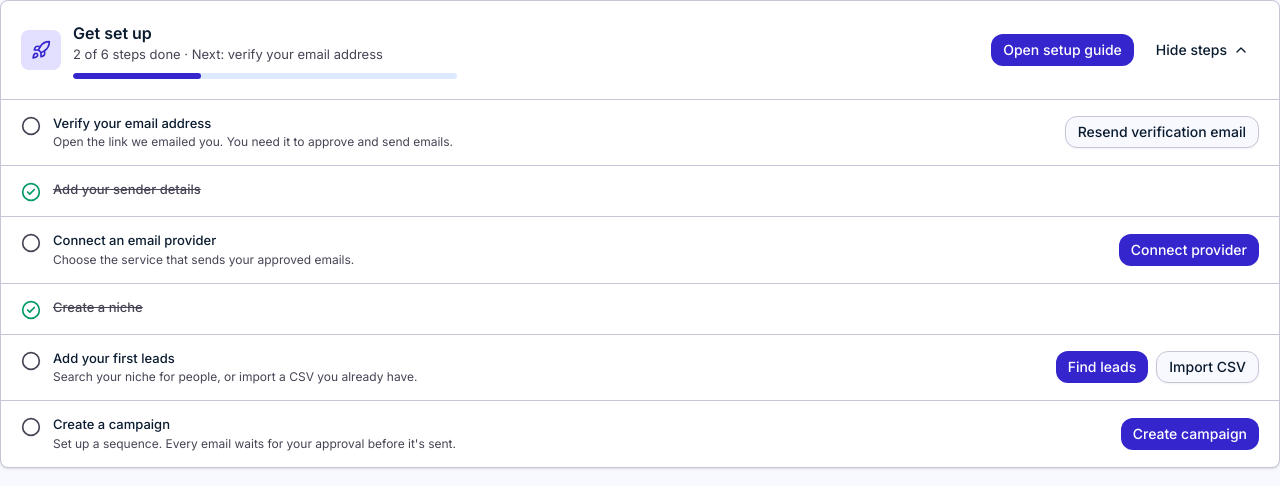
Test case: OnboardingChecklist › resends the verification email
The width and height of the screenshot is (1280, 486).
Click the button "Resend verification email" at coordinates (1162, 132), box x1=1065 y1=116 x2=1259 y2=148
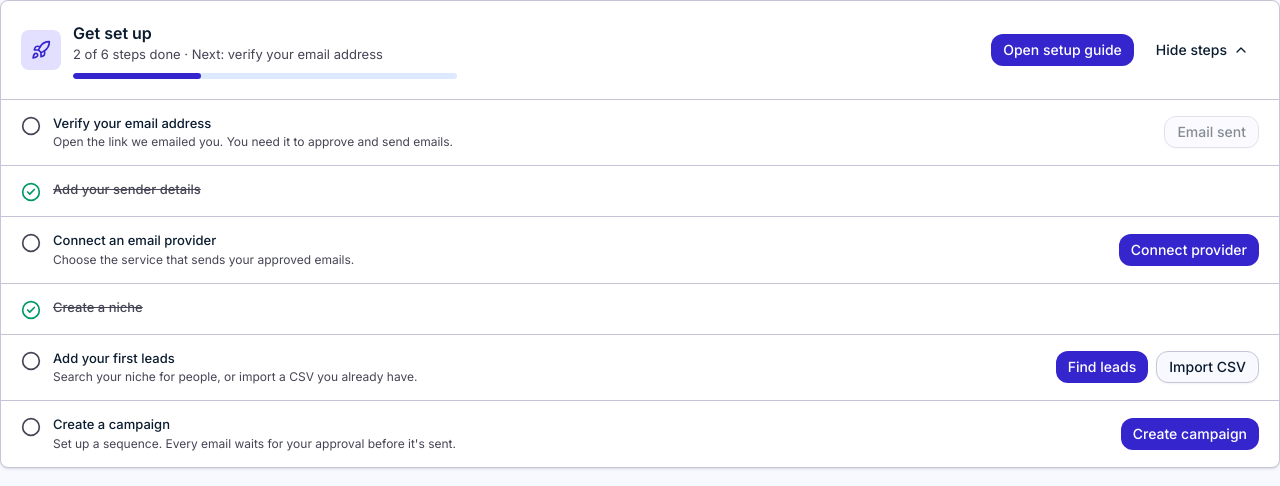
Check: the button "Email sent" is disabled, box x1=1164 y1=116 x2=1259 y2=148
